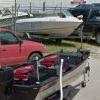Boat: (11, 4, 88, 42)
